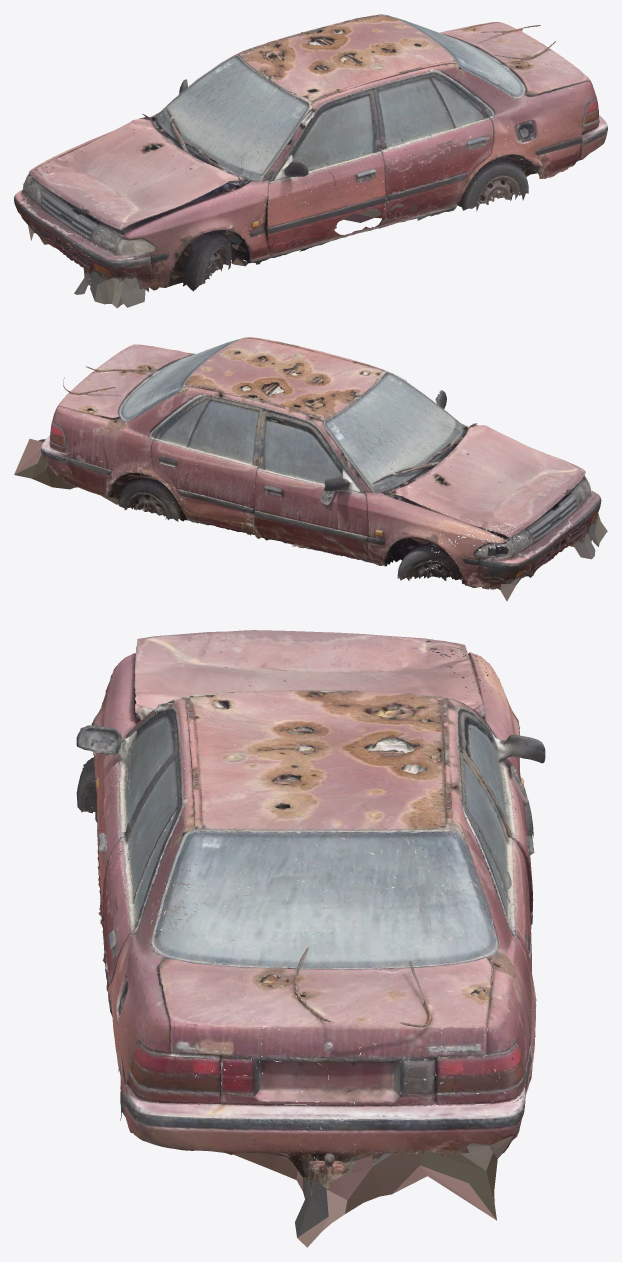
File: wrecked-car.glb
3 views of the same model, one above another, from view 1: azimuth 30°, elevation 25°; view 2: azimuth 150°, elevation 25°; view 3: azimuth 270°, elevation 25° (orthographic). The views are drawn at different scales.
Parts seen in each view (by area): view 1: Object_3, Object_5, Object_6, Object_8, Object_4, Object_9, Object_7, Object_2, Object_10, Object_11; view 2: Object_11, Object_9, Object_10, Object_6, Object_5, Object_8, Object_7, Object_3, Object_4; view 3: Object_6, Object_5, Object_7, Object_9, Object_8, Object_11, Object_3, Object_10, Object_4, Object_2.
Boxes of the visible parts, x1,y1,x2,y2 form: Object_3: (83, 137, 539, 308); Object_5: (185, 17, 569, 216); Object_6: (16, 21, 564, 258); Object_8: (350, 25, 528, 176); Object_4: (117, 94, 385, 307); Object_9: (129, 14, 574, 182); Object_7: (42, 25, 607, 300); Object_2: (340, 119, 550, 231); Object_10: (92, 48, 291, 184); Object_11: (14, 16, 374, 240); Object_11: (181, 384, 536, 601); Object_9: (43, 341, 454, 558); Object_10: (182, 391, 449, 580); Object_6: (14, 357, 592, 577); Object_5: (38, 353, 486, 504); Object_8: (32, 337, 342, 521); Object_7: (42, 344, 598, 560); Object_3: (447, 425, 607, 546); Object_4: (374, 379, 575, 471); Object_6: (194, 630, 522, 1220); Object_5: (76, 689, 519, 1247); Object_7: (115, 646, 533, 1167); Object_9: (105, 691, 536, 1195); Object_8: (105, 728, 535, 1202); Object_11: (366, 643, 534, 1009); Object_3: (76, 631, 285, 1112); Object_10: (317, 688, 545, 957); Object_4: (76, 642, 188, 927); Object_2: (101, 849, 156, 1120).
Size of the model in its own units: 0.6727 by 0.1773 by 0.2674.
1 material, 1 textured.
